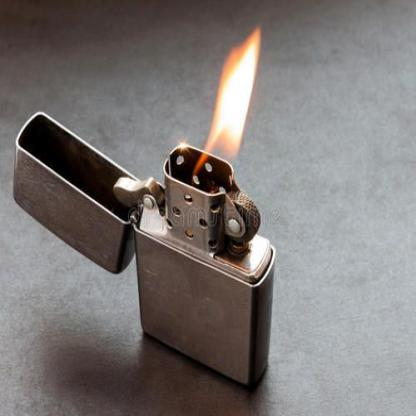fire: (200, 30, 260, 160)
